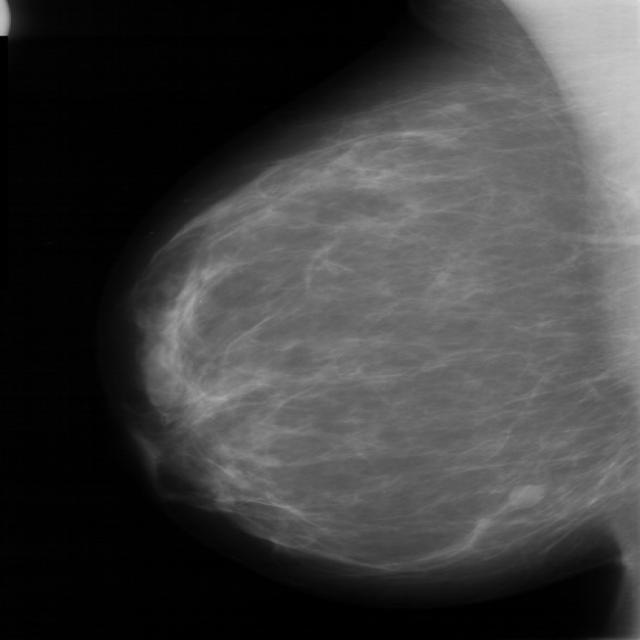tumour: (506, 481, 544, 507)
